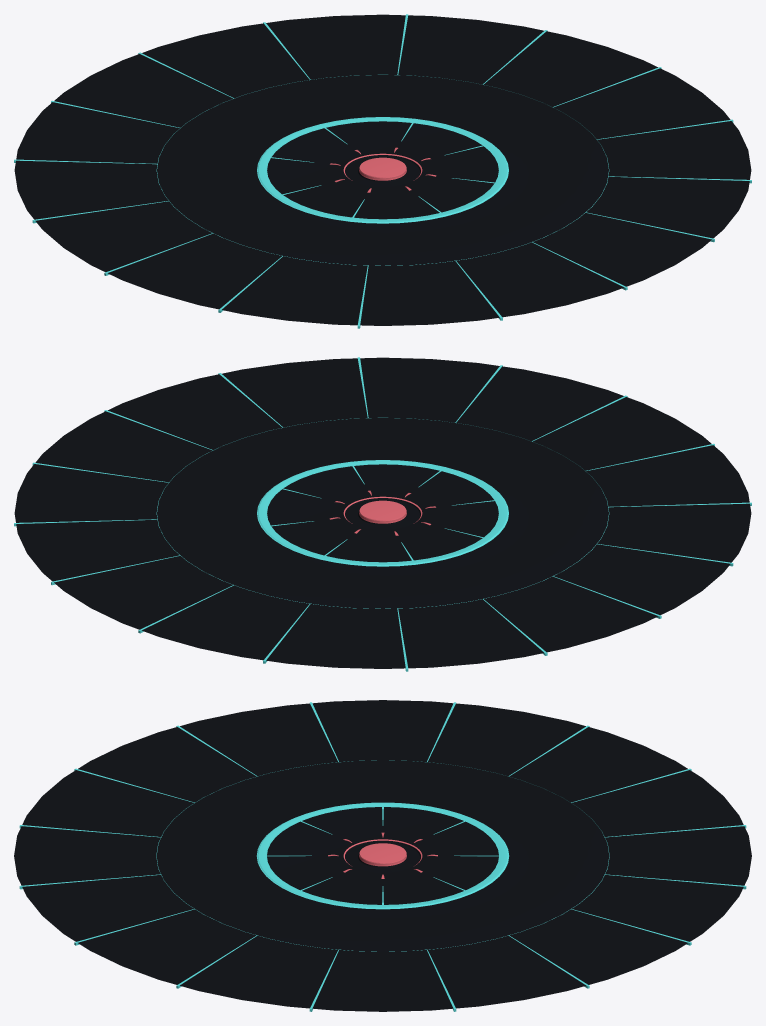
File: floor_circle_Wave.fbx
3 renders of one model, top to bottom at view 1: azimuth 30°, elevation 25°; view 2: azimuth 150°, elevation 25°; view 3: azimuth 270°, elevation 25°, orthographic.
Parts seen in each view (by area): view 1: pCylinder41; view 2: pCylinder41; view 3: pCylinder41.
Boxes of the visible parts, x1,y1,x2,y2 form: pCylinder41: (14, 14, 751, 328); pCylinder41: (14, 357, 751, 671); pCylinder41: (14, 700, 751, 1011).
Bounding box in the file's own units: 50 × 0.5872 × 50.
